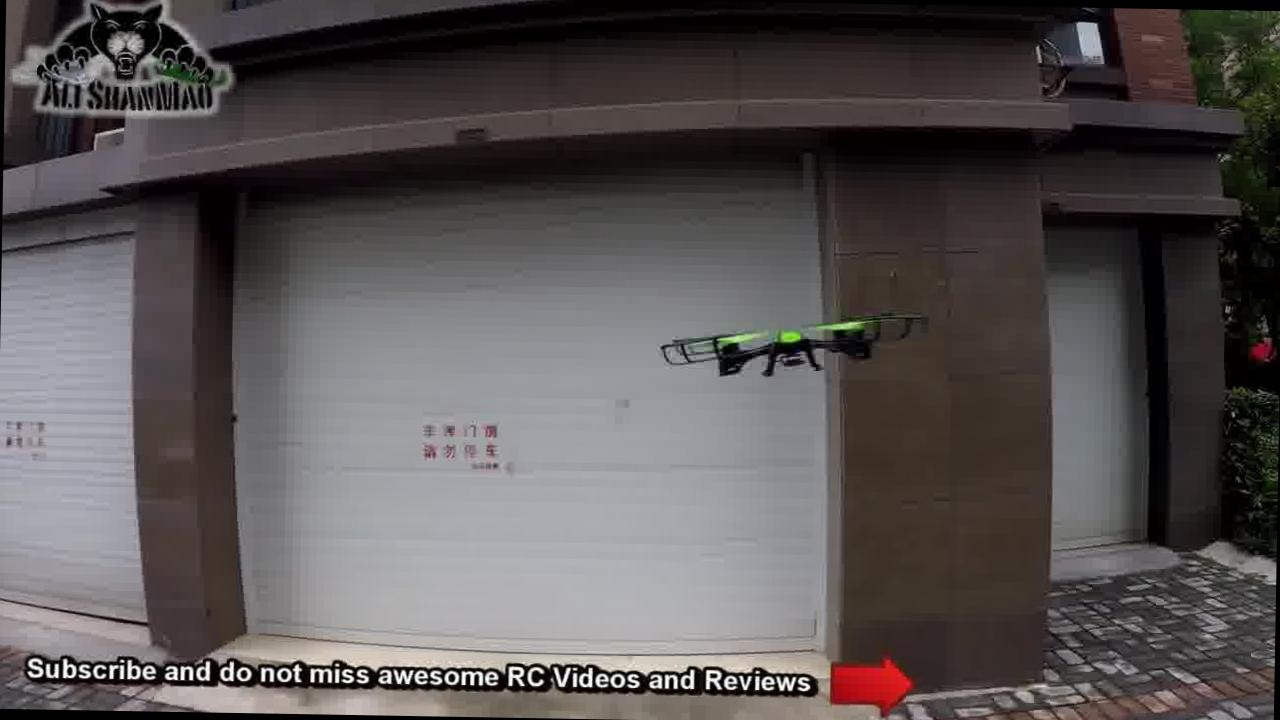drone: (648, 291, 928, 385)
